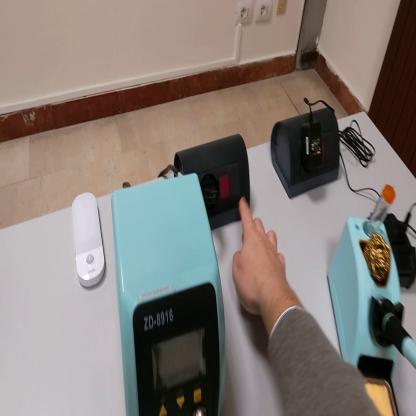electric screwdriver battery: (387, 216, 414, 291)
hand: (233, 199, 288, 317)
socket: (175, 135, 253, 234), (271, 111, 341, 199)
welder base: (327, 203, 404, 416)
welder probe tip: (379, 298, 416, 371)
welder station: (112, 174, 224, 413)
